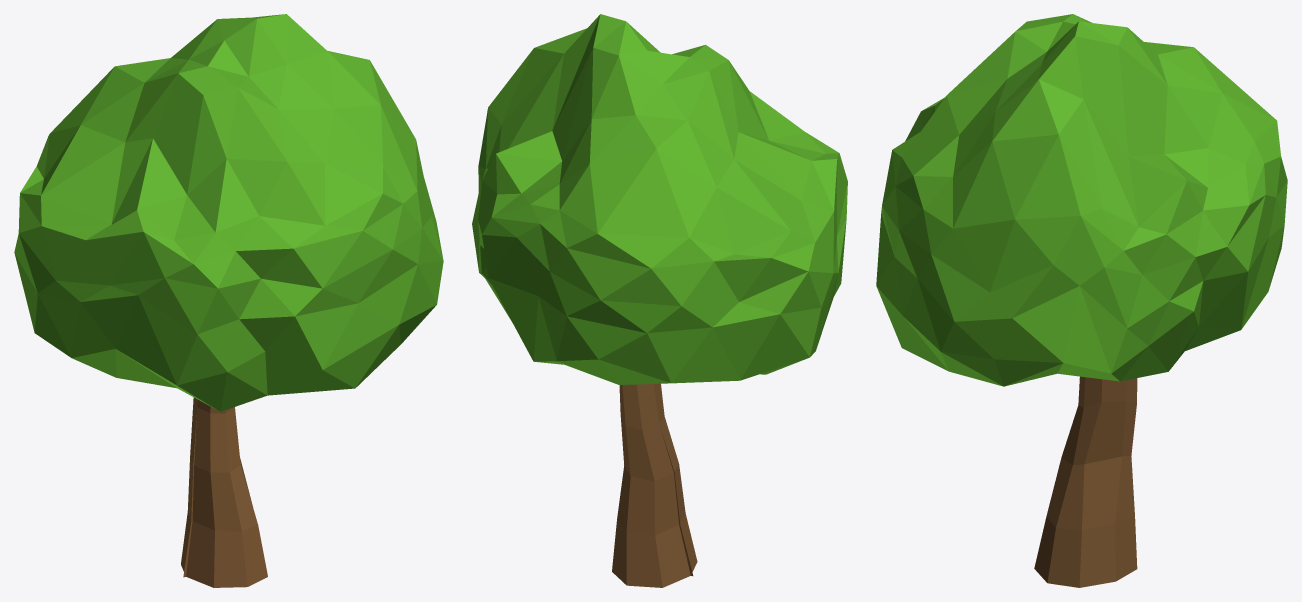
The model's file is MorePolyTree_301119.fbx.
3 renders of one model, left to right at view 1: azimuth 30°, elevation 25°; view 2: azimuth 150°, elevation 25°; view 3: azimuth 270°, elevation 25°, orthographic. The views are drawn at different scales.
Visible parts, largest first — view 1: Cylinder.001, Cylinder.002; view 2: Cylinder.001, Cylinder.002; view 3: Cylinder.001, Cylinder.002.
Boxes of the visible parts, x1,y1,x2,y2 form: Cylinder.001: (14, 14, 443, 411); Cylinder.002: (181, 397, 267, 587); Cylinder.001: (472, 14, 847, 384); Cylinder.002: (612, 383, 697, 587); Cylinder.001: (876, 14, 1287, 386); Cylinder.002: (1034, 376, 1137, 587).
Bounding box in the file's own units: 1914 × 2661 × 1759.
